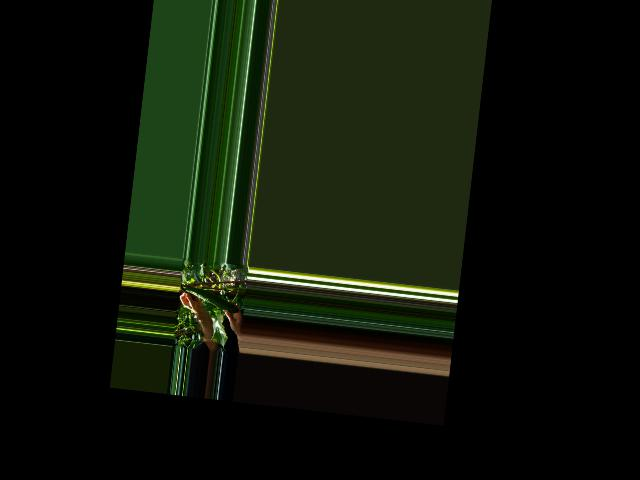cucumber: (183, 286, 240, 313)
